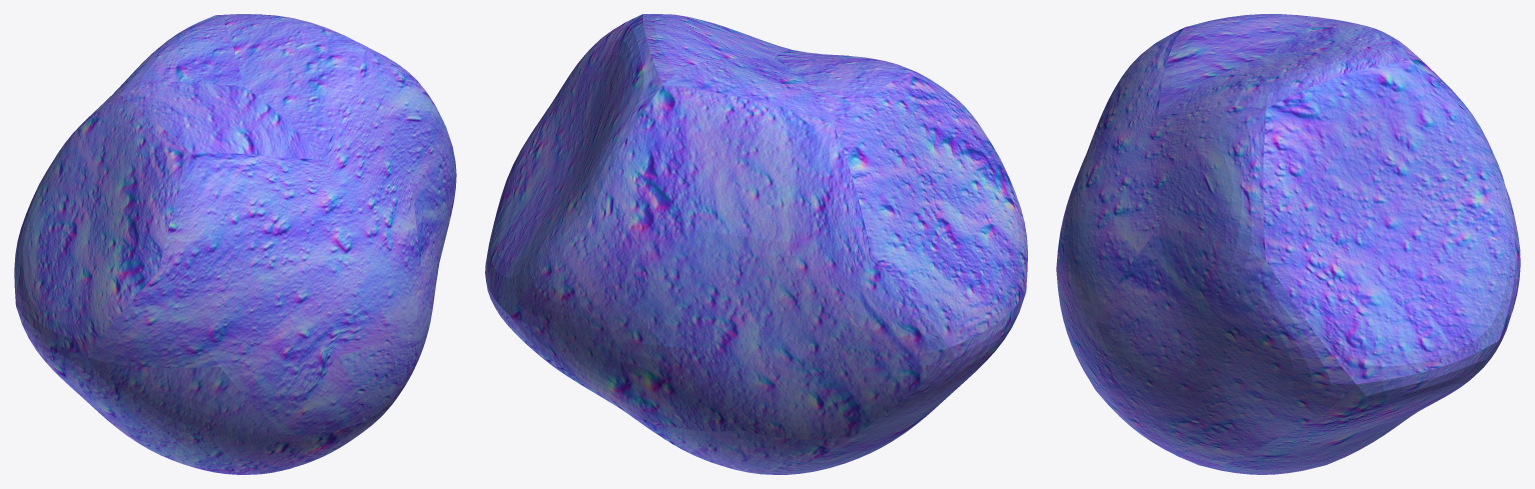
File: mediumasteroid16_LOD1.fbx
3 views of the same model, side by side, from view 1: azimuth 30°, elevation 25°; view 2: azimuth 150°, elevation 25°; view 3: azimuth 270°, elevation 25° (orthographic). The views are drawn at different scales.
Parts seen in each view (by area): view 1: Icosphere; view 2: Icosphere; view 3: Icosphere.
Boxes of the visible parts, x1=… form: Icosphere: x1=14, y1=14, x2=456, y2=474; Icosphere: x1=485, y1=14, x2=1027, y2=474; Icosphere: x1=1056, y1=14, x2=1520, y2=474.
Size of the model in its own units: 243 by 214 by 209.
